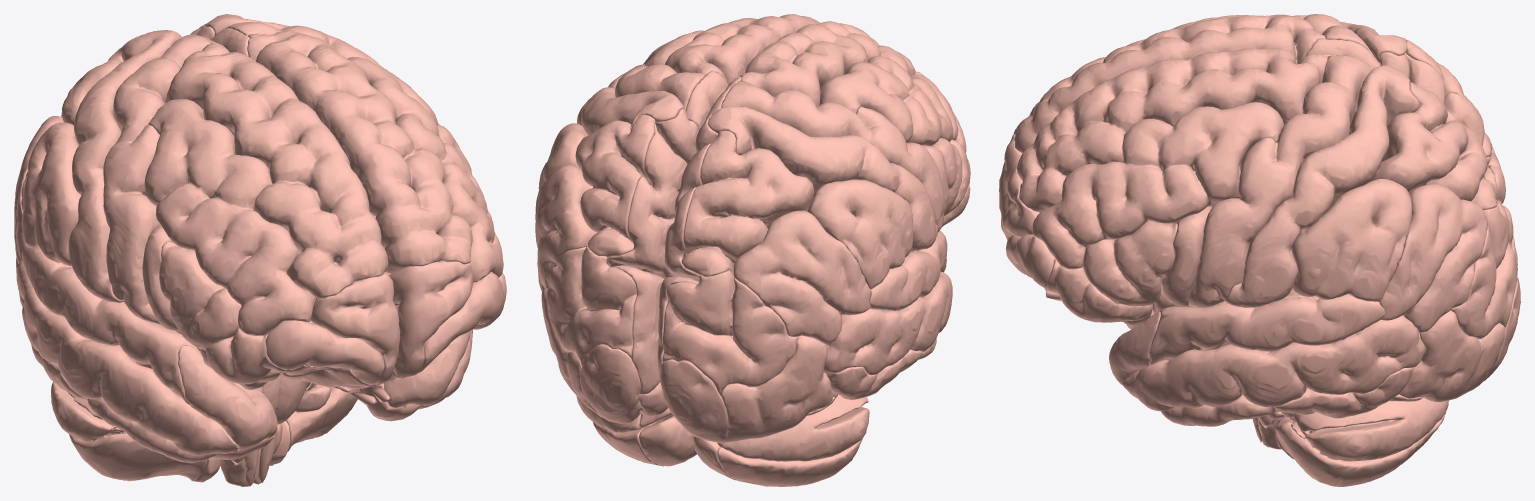
Rendered from brain-hq.glb.
3 renders of one model, left to right at view 1: azimuth 30°, elevation 25°; view 2: azimuth 150°, elevation 25°; view 3: azimuth 270°, elevation 25°, orthographic. The views are drawn at different scales.
Visible parts, largest first — view 1: Allen_superior_frontal_gyrus_L, Allen_middle_frontal_gyrus_L, Allen_superior_frontal_gyrus_R, Allen_middle_temporal_gyrus_L, Allen_precentral_gyrus_L, Allen_postcentral_gyrus_L, Allen_superior_temporal_gyrus_L, Allen_middle_frontal_gyrus_R, Allen_supramarginal_gyrus_L, Allen_frontal_pole_R, Allen_lateral_hemisphere_of_cerebellum_L, Allen_inferior_frontal_gyrus_triangular_part_L (+19 smaller); view 2: Allen_angular_gyrus_L, Allen_supraparietal_lobule_L, Allen_superior_occipital_gyrus_L, Allen_postcentral_gyrus_L, Allen_lateral_hemisphere_of_cerebellum_L, Allen_superior_occipital_gyrus_R, Allen_supraparietal_lobule_R, Allen_precentral_gyrus_L, Allen_supramarginal_gyrus_L, Allen_middle_frontal_gyrus_L, Allen_superior_frontal_gyrus_L, Allen_inferior_occipital_gyrus_L (+24 smaller); view 3: Allen_middle_frontal_gyrus_R, Allen_superior_frontal_gyrus_R, Allen_middle_temporal_gyrus_R, Allen_precentral_gyrus_R, Allen_postcentral_gyrus_R, Allen_supramarginal_gyrus_R, Allen_angular_gyrus_R, Allen_superior_temporal_gyrus_R, Allen_lateral_hemisphere_of_cerebellum_R, Allen_superior_frontal_gyrus_L, Allen_supraparietal_lobule_R, Allen_inferior_frontal_gyrus_triangular_part_R (+16 smaller).
Part boxes in pixels (x1,y1,x2,y2): Allen_superior_frontal_gyrus_L: (165,43,388,299); Allen_middle_frontal_gyrus_L: (144,98,315,335); Allen_superior_frontal_gyrus_R: (247,31,472,273); Allen_middle_temporal_gyrus_L: (16,260,238,455); Allen_precentral_gyrus_L: (103,34,210,325); Allen_postcentral_gyrus_L: (68,30,181,302); Allen_superior_temporal_gyrus_L: (21,245,196,404); Allen_middle_frontal_gyrus_R: (347,56,503,282); Allen_supramarginal_gyrus_L: (21,122,81,266); Allen_frontal_pole_R: (389,260,473,378); Allen_lateral_hemisphere_of_cerebellum_L: (51,382,207,481); Allen_inferior_frontal_gyrus_triangular_part_L: (159,241,241,350); Allen_angular_gyrus_L: (733,210,870,344); Allen_supraparietal_lobule_L: (681,130,814,276); Allen_superior_occipital_gyrus_L: (662,270,798,395); Allen_postcentral_gyrus_L: (707,106,938,251); Allen_lateral_hemisphere_of_cerebellum_L: (717,394,869,486); Allen_superior_occipital_gyrus_R: (546,245,636,365); Allen_supraparietal_lobule_R: (575,114,655,256); Allen_precentral_gyrus_L: (721,81,944,231); Allen_supramarginal_gyrus_L: (807,179,912,289); Allen_middle_frontal_gyrus_L: (819,55,966,152); Allen_superior_frontal_gyrus_L: (740,21,923,106); Allen_inferior_occipital_gyrus_L: (721,335,836,442); Allen_middle_frontal_gyrus_R: (1032,102,1284,269); Allen_superior_frontal_gyrus_R: (1017,48,1327,212); Allen_middle_temporal_gyrus_R: (1122,315,1425,411); Allen_precentral_gyrus_R: (1188,55,1371,307); Allen_postcentral_gyrus_R: (1225,65,1420,307); Allen_supramarginal_gyrus_R: (1290,179,1412,301); Allen_angular_gyrus_R: (1379,184,1487,333); Allen_superior_temporal_gyrus_R: (1149,294,1384,365); Allen_lateral_hemisphere_of_cerebellum_R: (1267,397,1448,486); Allen_superior_frontal_gyrus_L: (1013,14,1325,153); Allen_supraparietal_lobule_R: (1371,82,1497,209); Allen_inferior_frontal_gyrus_triangular_part_R: (1082,220,1177,306).
Bounding box in the file's own units: 0.1364 × 0.1461 × 0.167.
